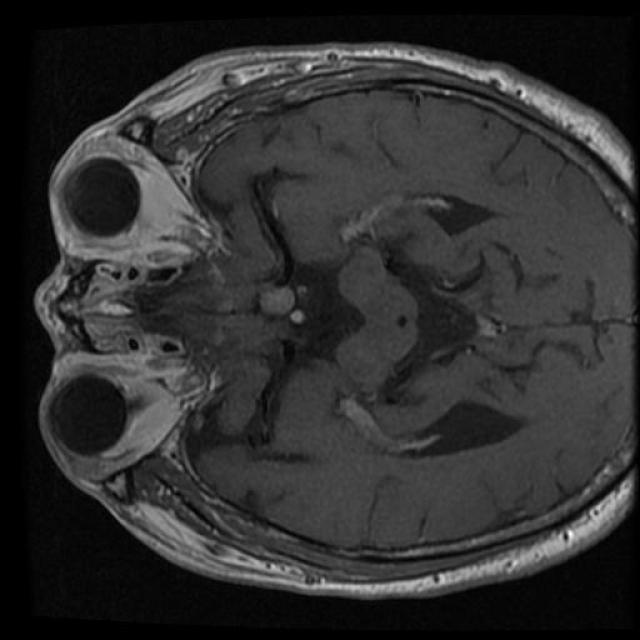Pituitary: (256, 278, 341, 363)
